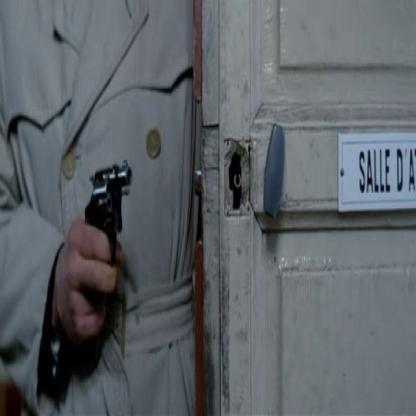gun: (76, 128, 133, 254)
